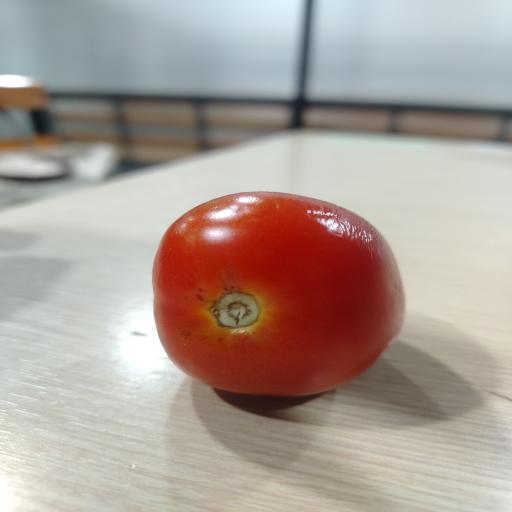overipe: (153, 192, 404, 395)
